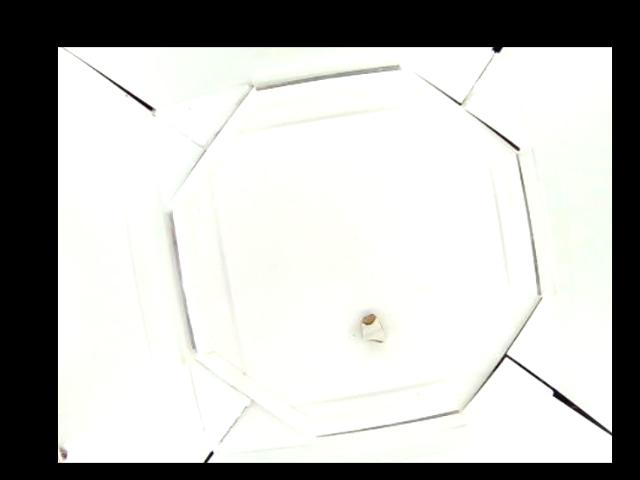China: (357, 313, 386, 341)
